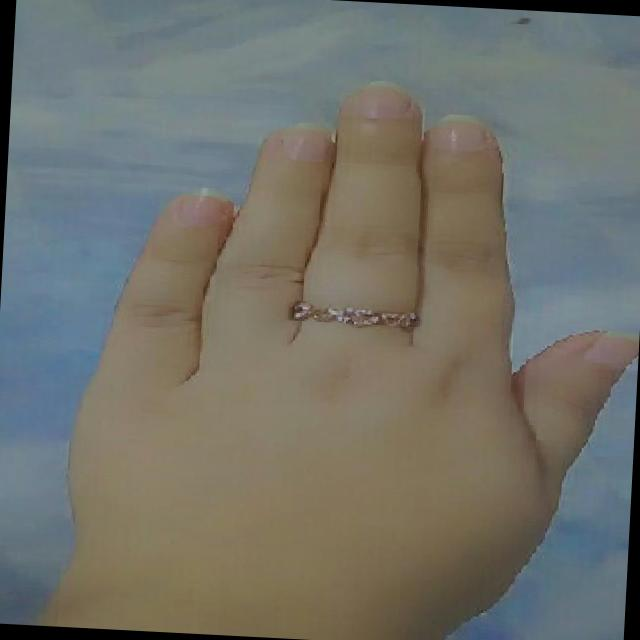Nail: (282, 122, 336, 163), (433, 113, 488, 152), (351, 82, 411, 117), (583, 333, 640, 369), (178, 189, 229, 229)
